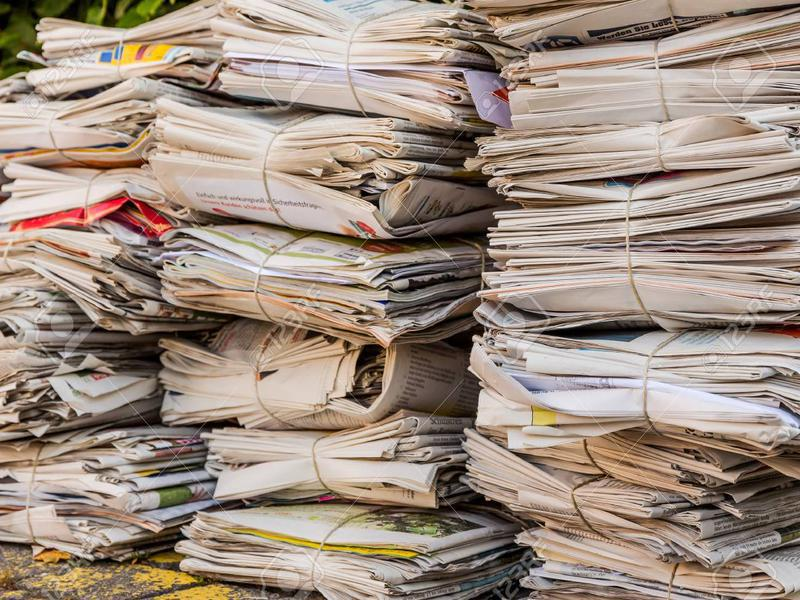paper: (146, 1, 503, 600), (463, 2, 800, 599), (1, 7, 218, 565)
